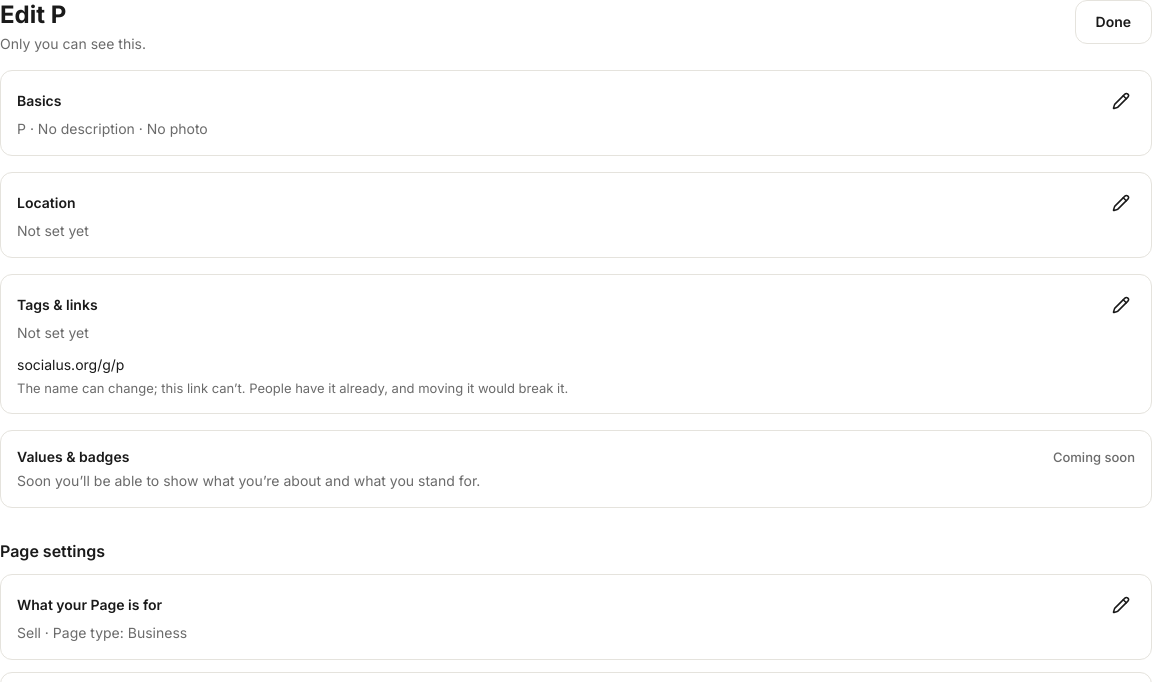
Test: F080 — the safety message where a member posts › shows when saving a live Page, its words and photo (Basics, #452)
Click the button named "Edit Basics": (1121, 101) [1099, 79, 1143, 123]
(page scrolled)
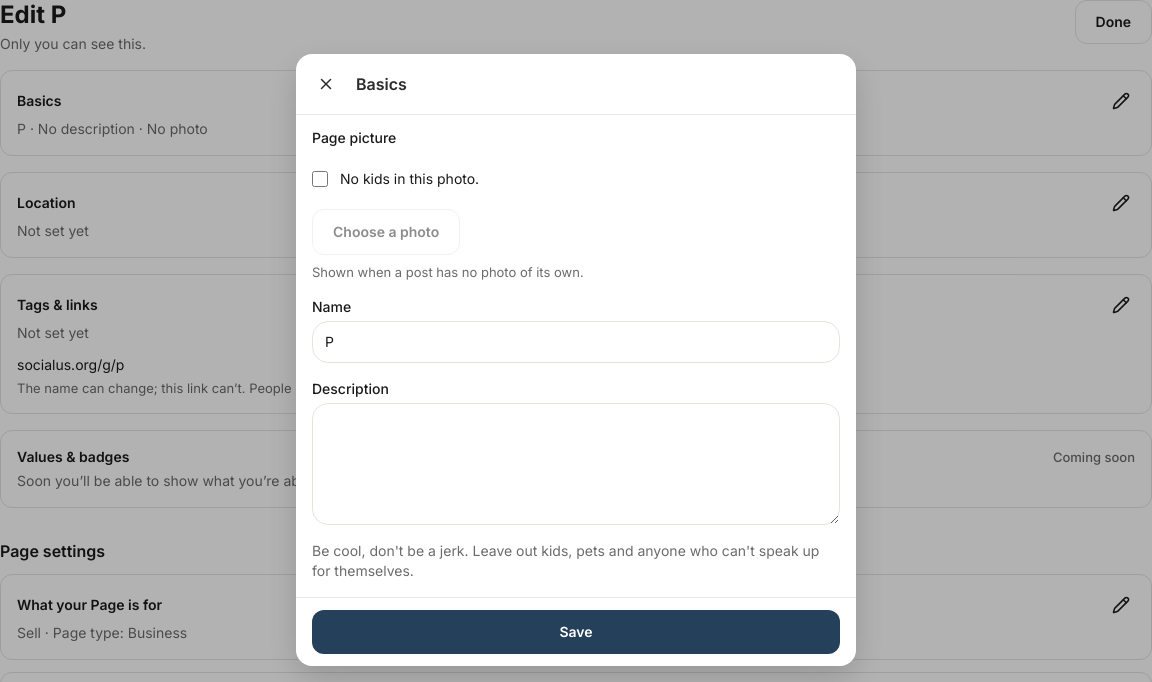
Now the text "Be cool, don't be a jerk. Leave out kids, pets and anyone who can't speak up for themselves." is shown, box [312, 542, 819, 579]
